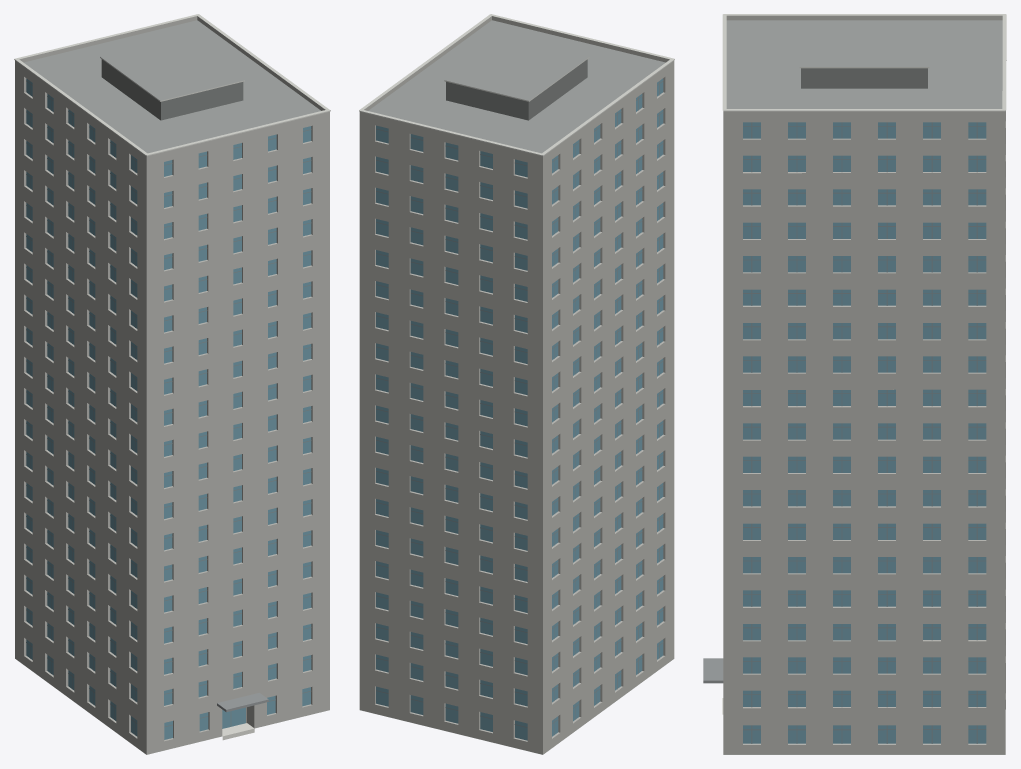
3 views of the same model, side by side, from view 1: azimuth 30°, elevation 25°; view 2: azimuth 150°, elevation 25°; view 3: azimuth 270°, elevation 25° (orthographic). The views are drawn at different scales.
Visible parts, largest first — view 1: unist-batch-b306__parapet, b306__glass, b306__frame, b306__trim, b306__canopy; view 2: unist-batch-b306__parapet, b306__glass, b306__frame, b306__trim; view 3: unist-batch-b306__parapet, b306__glass, b306__frame, b306__trim, b306__canopy.
Boxes of the visible parts, x1,y1,x2,y2 form: unist-batch-b306__parapet: (15, 16, 329, 754); b306__glass: (26, 78, 311, 739); b306__frame: (26, 80, 311, 735); b306__trim: (14, 14, 330, 156); b306__canopy: (217, 693, 268, 712); unist-batch-b306__parapet: (359, 16, 674, 754); b306__glass: (376, 78, 663, 740); b306__frame: (376, 80, 663, 734); b306__trim: (359, 14, 674, 156); unist-batch-b306__parapet: (723, 15, 1005, 754); b306__glass: (743, 122, 986, 743); b306__frame: (743, 122, 986, 743); b306__trim: (722, 14, 1006, 111); b306__canopy: (703, 658, 723, 683).
Size of the model in its own units: 20.79 by 66.7 by 27.52.
